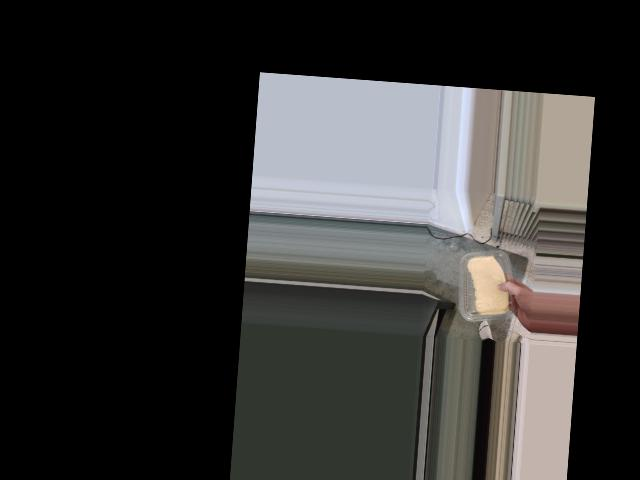cheese: (460, 249, 516, 323)
